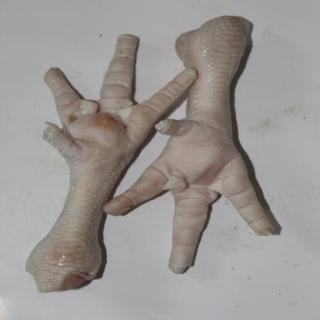Ayam: (104, 15, 281, 275), (31, 35, 199, 292)
